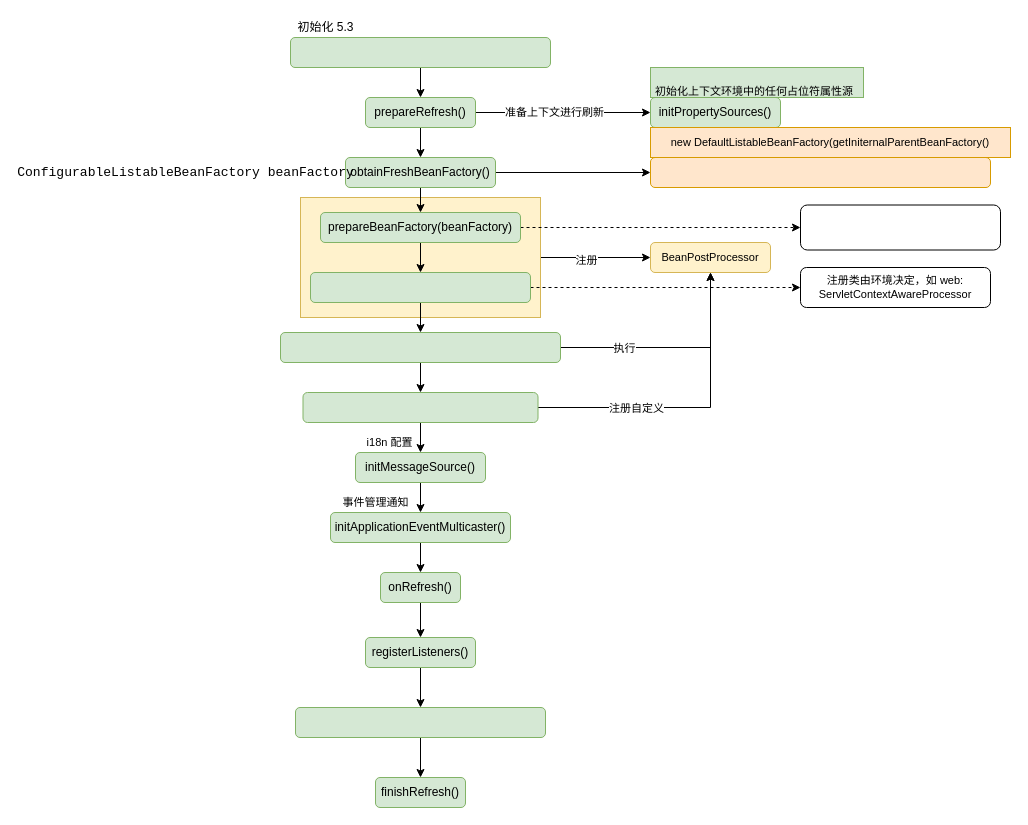
Image size: 1028x825. Some labels were removed from this diagram. Each missing label, with the box of its shape:
AbstractApplicationContext#refresh(): (290, 36, 550, 68)
AbstractRefreshableApplicationContext#createBeanFactory(): (650, 156, 990, 188)
ApplicationContextAwareProcessor ApplicationListenerDetector: (800, 204, 1000, 250)
finishBeanFactoryInitialization(beanFactory): (294, 706, 546, 738)
invokeBeanFactoryPostProcessors(beanFactory): (280, 332, 560, 362)
postProcessBeanFactory(beanFactory): (310, 272, 530, 302)
registerBeanPostProcessors(beanFactory): (302, 392, 538, 422)
